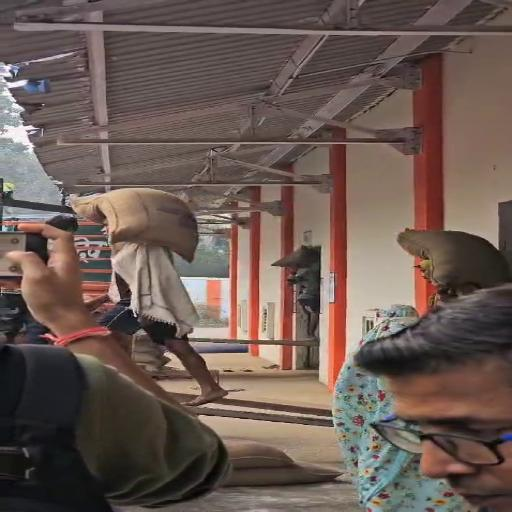bag: (62, 184, 206, 261), (395, 224, 508, 301)
